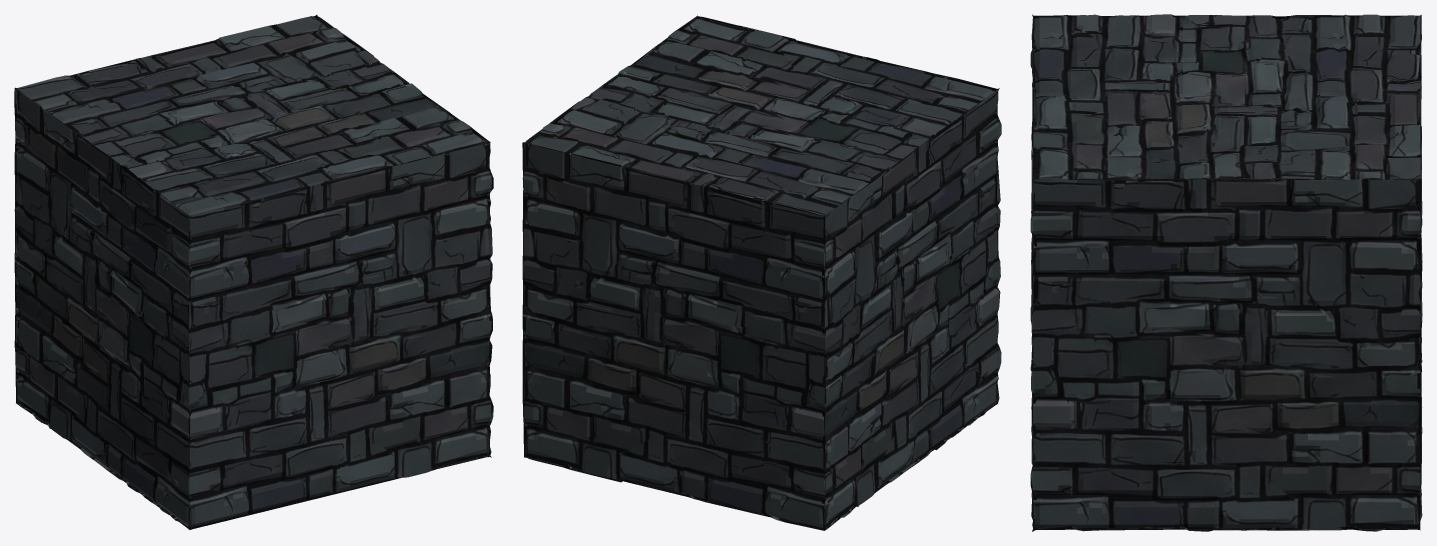
The model's file is kamien2.obj.
3 renders of one model, left to right at view 1: azimuth 30°, elevation 25°; view 2: azimuth 150°, elevation 25°; view 3: azimuth 270°, elevation 25°, orthographic. The views are drawn at different scales.
Parts seen in each view (by area): view 1: Sześcian; view 2: Sześcian; view 3: Sześcian.
Boxes of the visible parts, x1=… form: Sześcian: x1=14, y1=15, x2=493, y2=529; Sześcian: x1=522, y1=15, x2=1001, y2=530; Sześcian: x1=1030, y1=14, x2=1422, y2=531.
Size of the model in its own units: 1.97 by 1.96 by 1.96.
Materials: 1 (1 with a texture image).
